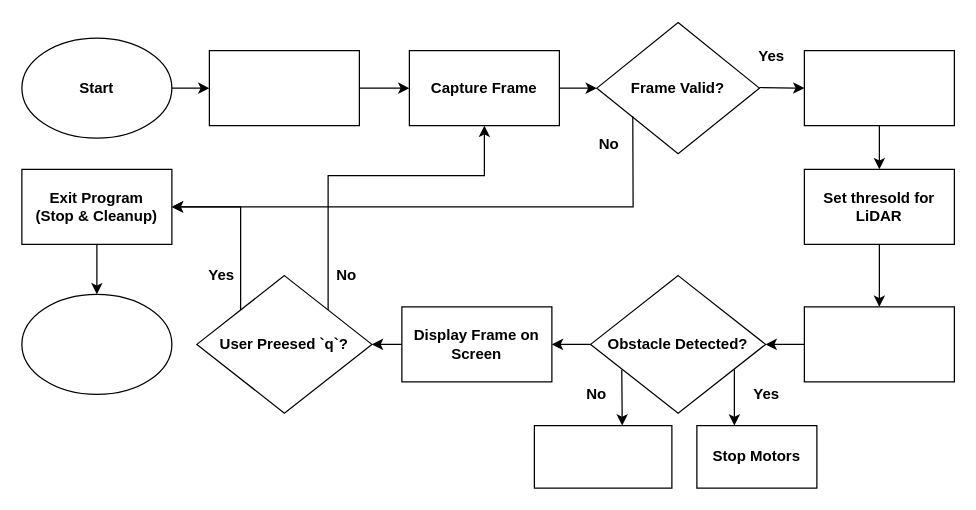
This 976x510 diagram has some shape labels left out. Each missing label, with the box of its shape:
End: (21, 293, 172, 394)
Initialization: (208, 49, 359, 126)
Line Follower: (803, 49, 954, 126)
Obstacle Detection: (803, 306, 954, 382)
Set Motor Speeds: (533, 424, 672, 488)
